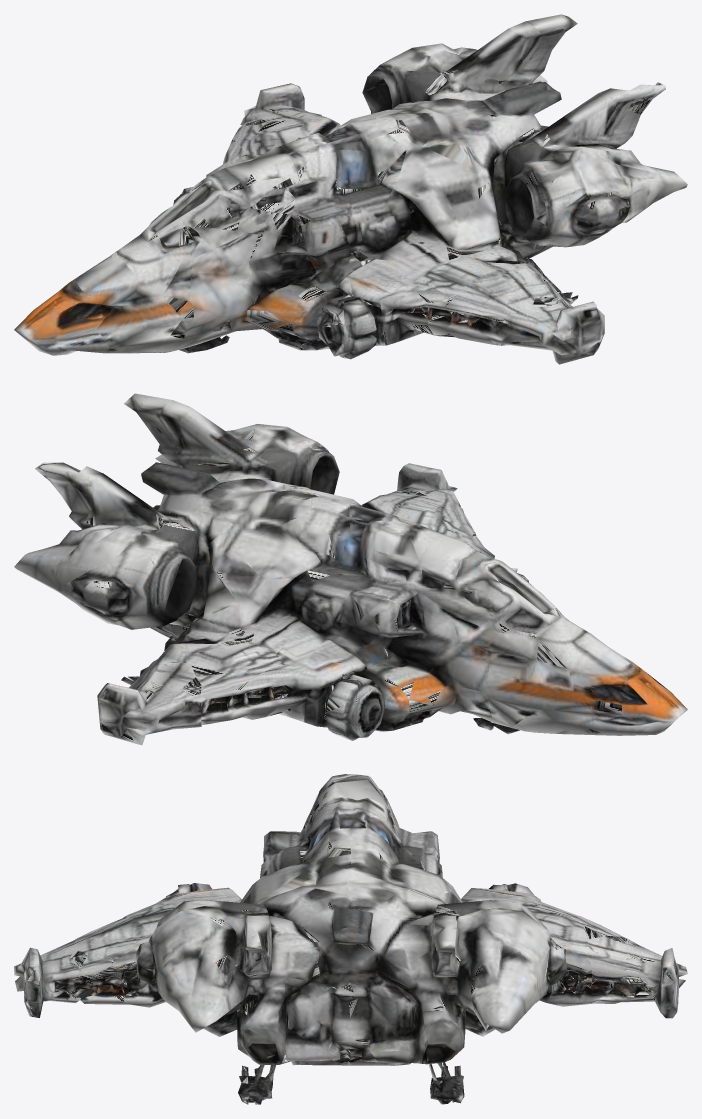
Rendered from frigate.glb.
The picture shows the model from 3 angles, top to bottom: view 1: azimuth 30°, elevation 25°; view 2: azimuth 150°, elevation 25°; view 3: azimuth 270°, elevation 25°; orthographic projection. The views are drawn at different scales.
Size of the model in its own units: 1.89 by 0.6048 by 1.74.
Materials: 1 (1 with a texture image).
